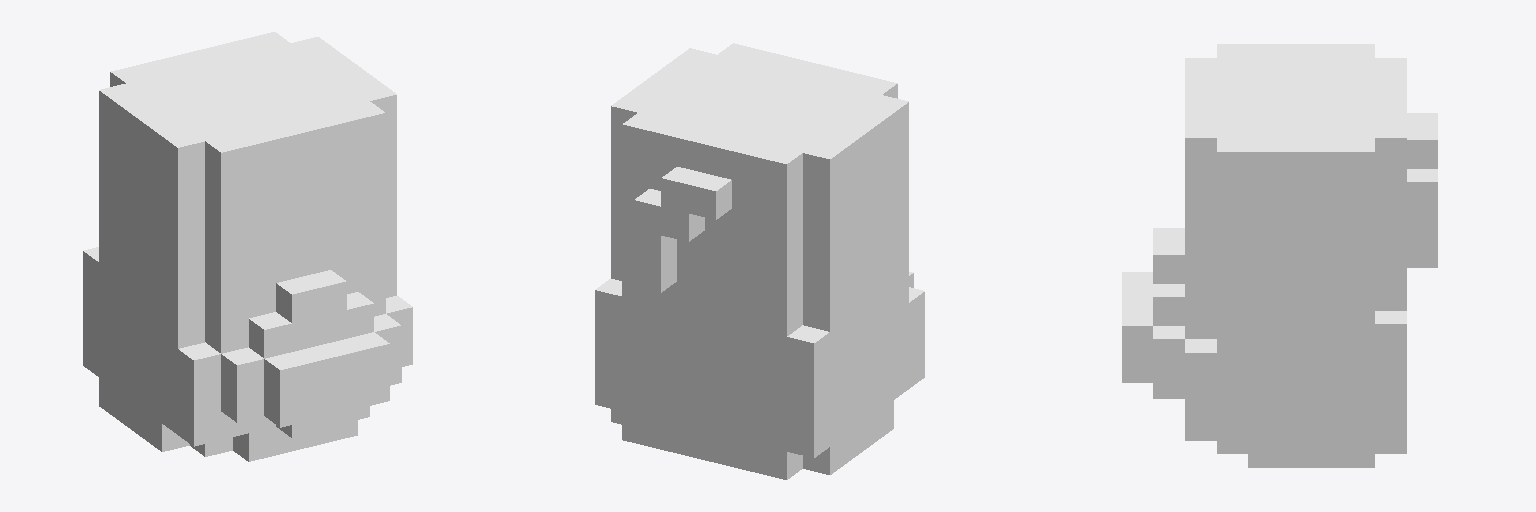
The model's file is anim_player_snowman_penskin_body.obj.
3 renders of one model, left to right at view 1: azimuth 30°, elevation 25°; view 2: azimuth 150°, elevation 25°; view 3: azimuth 270°, elevation 25°, orthographic.
Visible parts, largest first — view 1: object 1; view 2: object 1; view 3: object 1.
Boxes of the visible parts, x1,y1,x2,y2 form: object 1: [83, 32, 412, 461]; object 1: [595, 43, 924, 479]; object 1: [1122, 44, 1437, 467].
Bounding box in the file's own units: 0.8 × 1.1 × 1.